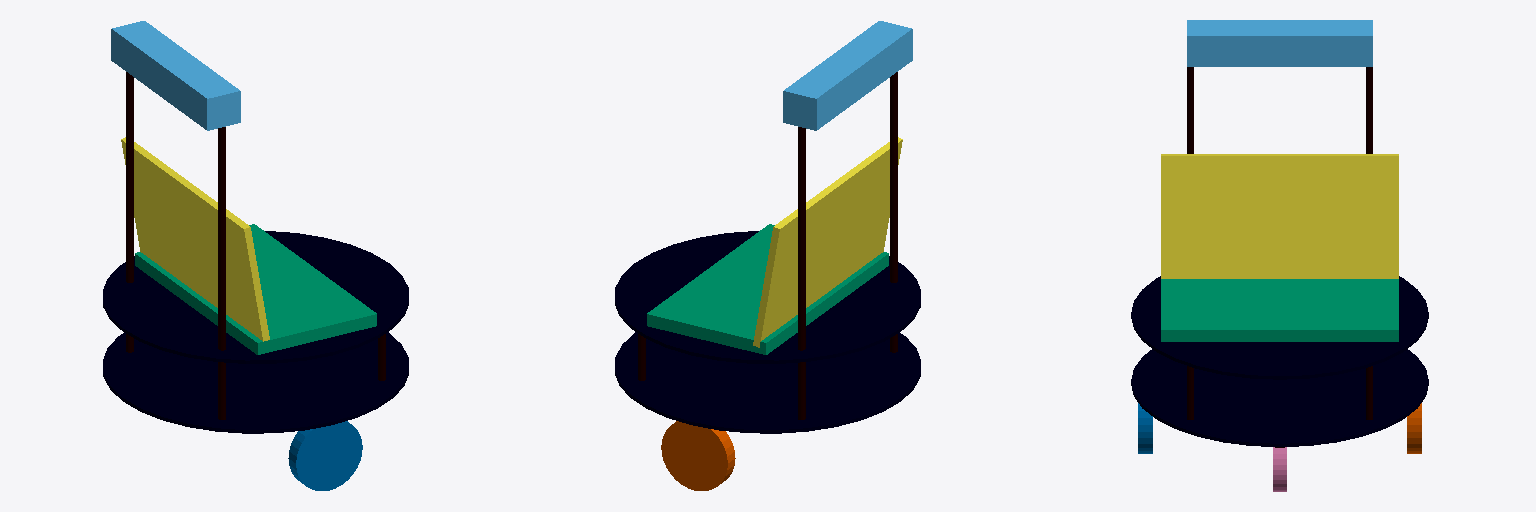
URDF robot description (patrick_the_robot):
<?xml version="1.0"?>
<robot name="patrick_the_robot">
  <link name="base_link">
    <visual>
      <geometry>
        <cylinder length="0.005" radius="0.2"/>
      </geometry>
      <material name="black">
          <color rgba="0 0 0.118 1"/>
      </material>
    </visual>
  </link>

  <link name="base_laser">
    <visual>
      <geometry>
        <box size="0.05 0.25 0.046"/>
      </geometry>
      <material name="blackest"/>
        <color rgba="0.12 0.05 0.05 1"/>
      <material/>        
    </visual>
  </link>  
  
  <link name="laptop_hor">
    <visual>
      <geometry>
        <box size="0.32 0.18 0.02"/>
      </geometry>
    <origin rpy="0 0 1.5708"/>
      <material name="white"/>
         <color rgba="1 1 1 1"/>
      <material/>        
    </visual>
  </link>
  
  <link name="laptop_ver">
    <visual>
      <geometry>
        <box size="0.32 0.18 0.01"/>
      </geometry>
    <origin rpy="1.4 0 1.5708"/>
        <material name="white_xxx"/>
          <color rgba="0 0 0 1"/>
        <material/>        
    </visual>
  </link>
  
  <link name="left_wheel">
    <visual>
      <geometry>
        <cylinder length="0.02" radius="0.05"/>
      </geometry>
    <origin rpy="0 1.5708 1.5708" xyz="0 0 0"/>
        <material name="blue_dark"/>
          <color rgba="0.3333 0.3333 0.498 1"/>
        <material/>        
    </visual>
  </link>
  
  <link name="right_wheel">
    <visual>
      <geometry>
        <cylinder length="0.02" radius="0.05"/>
      </geometry>
    <origin rpy="0 1.5708 1.5708" xyz="0 0 0"/>
        <material name="blue_dark"/>
          <color rgba="0.3333 0.3333 0.498 1"/>
        <material/>        
    </visual>
  </link>  
  
  <link name="small_wheel">
    <visual>
      <geometry>
        <cylinder length="0.02" radius="0.0375"/>
      </geometry>
    <origin rpy="0 1.5708 1.5708" xyz="0 0 0"/>
        <material name="blue_dark"/>
          <color rgba="0.3333 0.3333 0.498 1"/>
        <material/>        
    </visual>
  </link>
  
  <link name="pillar_small_wheel">
    <visual>
      <geometry>
        <cylinder length="0.0125" radius="0.03"/>
      </geometry>
      <material name="black_slightly">
        <color rgba="0.123 0 0 1"/>
      </material>
    </visual>
  </link>
  
  <link name="base_link_2">
    <visual>
      <geometry>
        <cylinder length="0.005" radius="0.2"/>
      </geometry>
      <material name="black">
          <color rgba="0 0 0.118 1"/>
      </material>
    </visual>
  </link>
  
  <link name="pillar_1">
    <visual>
      <geometry>
        <cylinder length="0.1" radius="0.005"/>
      </geometry>
      <material name="black_slightly">
        <color rgba="0.123 0 0 1"/>
      </material>
    </visual>
  </link>
  
  <link name="pillar_2">
    <visual>
      <geometry>
        <cylinder length="0.1" radius="0.005"/>
      </geometry>
      <material name="black_slightly">
        <color rgba="0.123 0 0 1"/>
      </material>
    </visual>
  </link>
  
  <link name="pillar_3">
    <visual>
      <geometry>
        <cylinder length="0.1" radius="0.005"/>
      </geometry>
      <material name="black_slightly">
        <color rgba="0.123 0 0 1"/>
      </material>
    </visual>
  </link>
  
  <link name="pillar_4">
    <visual>
      <geometry>
        <cylinder length="0.1" radius="0.005"/>
      </geometry>
      <material name="black_slightly">
        <color rgba="0.123 0 0 1"/>
      </material>
    </visual>
  </link>
  
  <link name="pillar_kinect_1">
    <visual>
      <geometry>
        <cylinder length="0.346" radius="0.005"/>
      </geometry>
      <material name="black_slightly">
        <color rgba="0.123 0 0 1"/>
      </material>
    </visual>
  </link>
  
  <link name="pillar_kinect_2">
    <visual>
      <geometry>
        <cylinder length="0.346" radius="0.005"/>
      </geometry>
      <material name="black_slightly">
        <color rgba="0.123 0 0 1"/>
      </material>
    </visual>
  </link>

  <joint name="base_to_left_wheel" type="fixed">
    <parent link="base_link"/>
    <child link="left_wheel"/>
    <origin xyz="0 -0.181 -0.05"/>
  </joint>
  
  <joint name="base_to_right_wheel" type="fixed">
    <parent link="base_link"/>
    <child link="right_wheel"/>
    <origin xyz="0 0.181 -0.05"/>
  </joint>
  
  <joint name="base_to_small_wheel" type="fixed">
    <parent link="base_link"/>
    <child link="small_wheel"/>
    <origin xyz="0.15 0 -0.05"/>
  </joint>
  
  <joint name="base_to_small_wheel_and_pillar_small_wheel" type="fixed">
    <parent link="base_link"/>
    <child link="pillar_small_wheel"/>
    <origin xyz="0.15 0 -0.00625"/>
  </joint>
  
  <joint name="base_to_laser" type="fixed">
    <parent link="base_link"/>
    <child link="base_laser"/>
    <origin xyz="-0.12 0 0.446"/>
  </joint>
  
  <joint name="base_to_laptop_hor" type="fixed">
    <parent link="base_link"/>
    <child link="laptop_hor"/>
    <origin xyz="0 0 0.11"/>
  </joint>
  
  <joint name="base_to_laptop_ver" type="fixed">
    <parent link="base_link"/>
    <child link="laptop_ver"/>
    <origin xyz="-0.09 0 0.2"/>
  </joint>
  
  <joint name="base_to_base" type="fixed">
    <parent link="base_link"/>
    <child link="base_link_2"/>
    <origin xyz="0 0 0.1"/>
  </joint>
  
  <joint name="base_to_pillar_1" type="fixed">
    <parent link="base_link"/>
    <child link="pillar_1"/>
    <origin xyz="0.12 0.12 0.05"/>
  </joint>
  
  <joint name="base_to_pillar_2" type="fixed">
    <parent link="base_link"/>
    <child link="pillar_2"/>
    <origin xyz="-0.12 0.12 0.05"/>
  </joint>
  
  <joint name="base_to_pillar_3" type="fixed">
    <parent link="base_link"/>
    <child link="pillar_3"/>
    <origin xyz="0.12 -0.12 0.05"/>
  </joint>
  
  <joint name="base_to_pillar_4" type="fixed">
    <parent link="base_link"/>
    <child link="pillar_4"/>
    <origin xyz="-0.12 -0.12 0.05"/>
  </joint>
  
  <joint name="base_to_pillar_kinect_1" type="fixed">
    <parent link="base_link"/>
    <child link="pillar_kinect_1"/>
    <origin xyz="-0.12 0.12 0.273"/>
  </joint>
  
  <joint name="base_to_pillar_kinect_2" type="fixed">
    <parent link="base_link"/>
    <child link="pillar_kinect_2"/>
    <origin xyz="-0.12 -0.12 0.273"/>
  </joint>

</robot>

--- What the picture shows (computed from the rendered views, not written in the file) ---
Views: 3 orthographic renders of the robot side by side, from view 1: azimuth 30°, elevation 25°; view 2: azimuth 150°, elevation 25°; view 3: azimuth 270°, elevation 25°.
Robot: patrick_the_robot — 15 links, 14 joints (14 fixed); root link base_link; default pose: all joints at 0.
Links seen in each view (by area): view 1: base_link, base_link_2, laptop_ver, laptop_hor, base_laser, left_wheel, pillar_kinect_2, pillar_kinect_1; view 2: base_link, base_link_2, laptop_ver, laptop_hor, base_laser, right_wheel, pillar_kinect_1, pillar_kinect_2; view 3: laptop_ver, base_link, laptop_hor, base_link_2, base_laser, left_wheel, right_wheel, small_wheel, pillar_kinect_1, pillar_kinect_2.
Link boxes in pixels (x1,y1,x2,y2): base_link: [103, 332, 408, 433]; base_link_2: [103, 231, 408, 363]; laptop_ver: [121, 137, 269, 341]; laptop_hor: [135, 224, 376, 354]; base_laser: [111, 21, 240, 130]; left_wheel: [288, 421, 362, 490]; pillar_kinect_2: [218, 127, 225, 350]; pillar_kinect_1: [126, 72, 133, 282]; base_link: [615, 332, 920, 433]; base_link_2: [615, 231, 920, 363]; laptop_ver: [753, 137, 902, 347]; laptop_hor: [647, 224, 888, 354]; base_laser: [783, 21, 912, 130]; right_wheel: [661, 421, 735, 490]; pillar_kinect_1: [798, 127, 805, 350]; pillar_kinect_2: [890, 72, 897, 282]; laptop_ver: [1161, 154, 1398, 278]; base_link: [1131, 349, 1428, 446]; laptop_hor: [1161, 279, 1398, 341]; base_link_2: [1131, 276, 1428, 379]; base_laser: [1187, 20, 1372, 66]; left_wheel: [1138, 403, 1152, 453]; right_wheel: [1407, 403, 1421, 453]; small_wheel: [1273, 447, 1286, 491]; pillar_kinect_1: [1366, 67, 1372, 153]; pillar_kinect_2: [1187, 67, 1193, 153].
Bounding box of the posed robot: 0.4 × 0.4 × 0.569 m (x, y, z).
Geometry: primitives only (box / cylinder / sphere), no mesh files.
